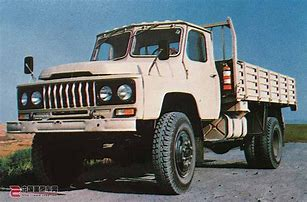bigtruck: (17, 18, 293, 190)
